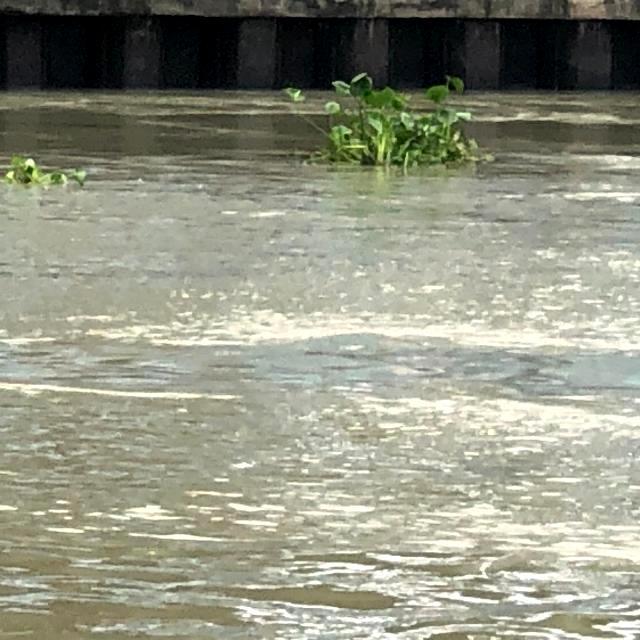water-hyacinth: (254, 56, 516, 184), (3, 155, 89, 191)
